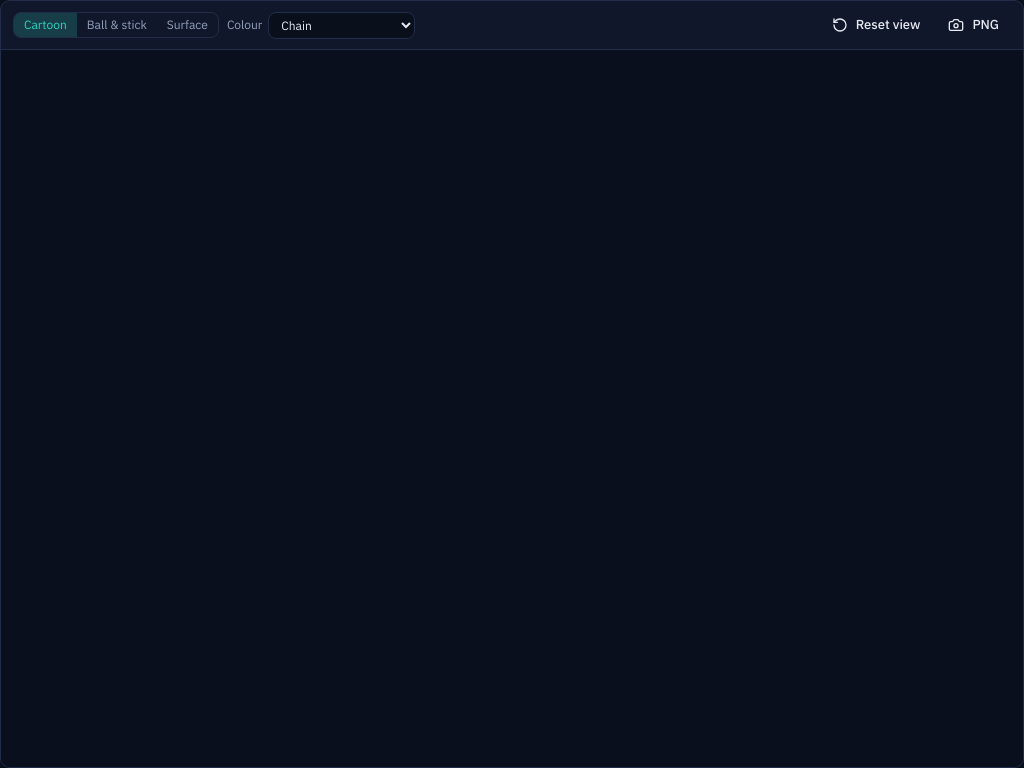
it: ViewerPanel › shows the four-bin pLDDT legend only when colouring by pLDDT, and applies the scheme
Select "pLDDT confidence" in the dropdown named "Colour by" at (342, 25), box [268, 12, 415, 38]
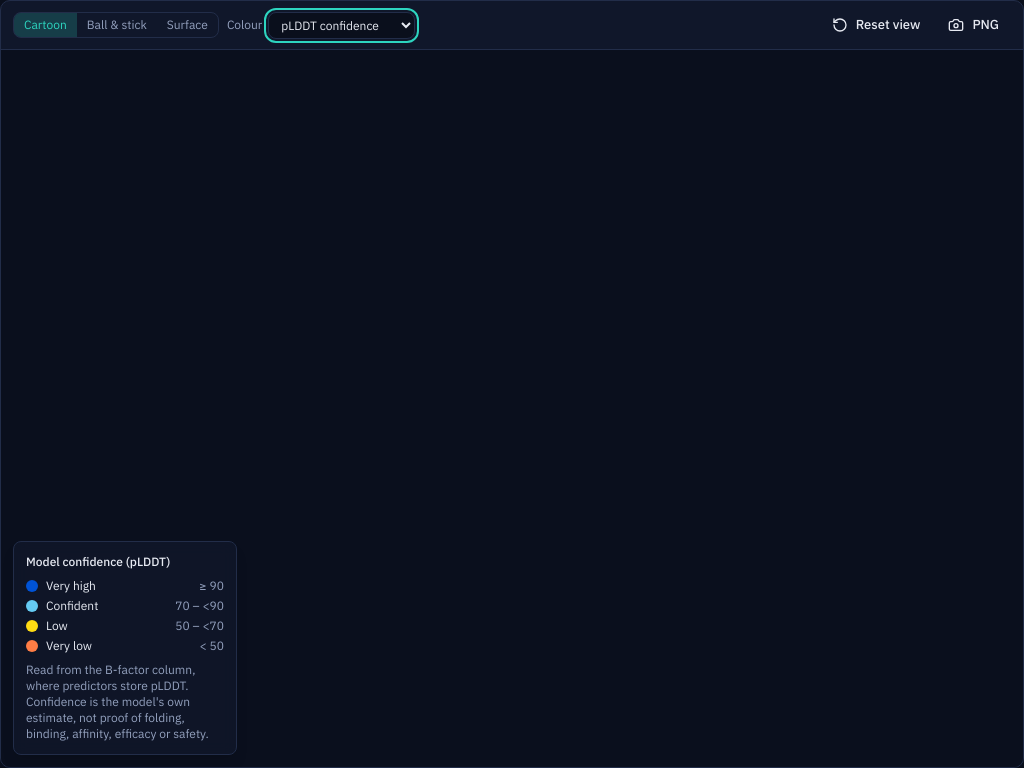
Now the element with test id "plddt-legend" shows "not proof of folding, binding", box [26, 694, 209, 741]
